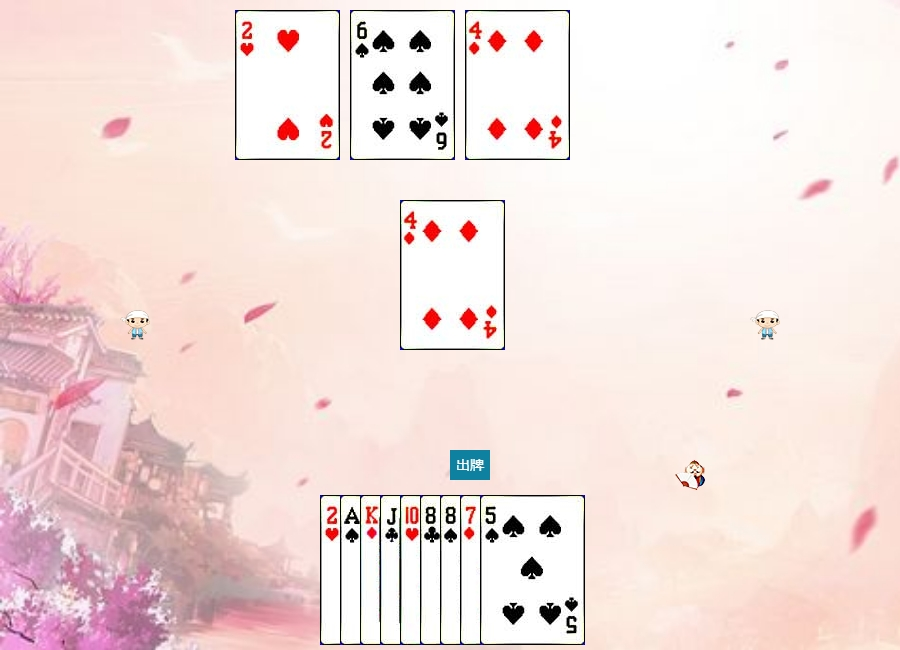10~3: (400, 495, 505, 645)
11~2: (380, 495, 485, 645)
13~1: (360, 495, 465, 645)
14~4: (340, 495, 445, 645)
15~3: (235, 10, 340, 160), (320, 495, 425, 645)
4~1: (465, 10, 570, 160), (400, 200, 505, 350)
5~4: (480, 495, 585, 645)
6~4: (350, 10, 455, 160)
7~1: (460, 495, 565, 645)
8~2: (420, 495, 525, 645)
8~4: (440, 495, 545, 645)
